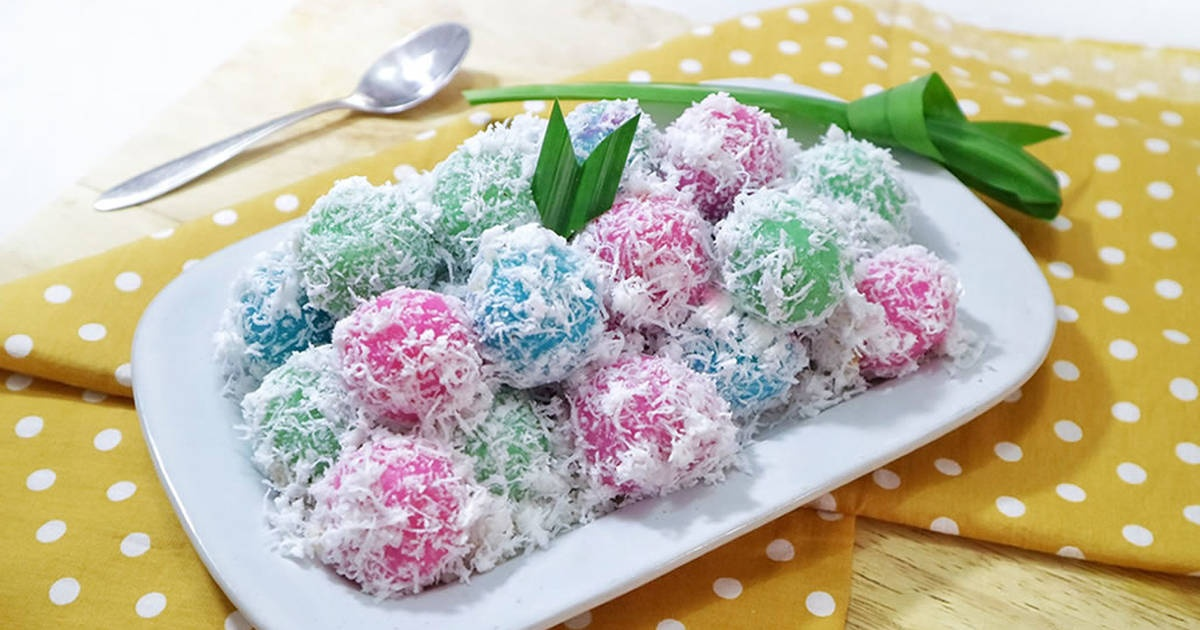klepon: (294, 444, 488, 616), (457, 241, 620, 381), (715, 187, 860, 330), (301, 191, 443, 304)
